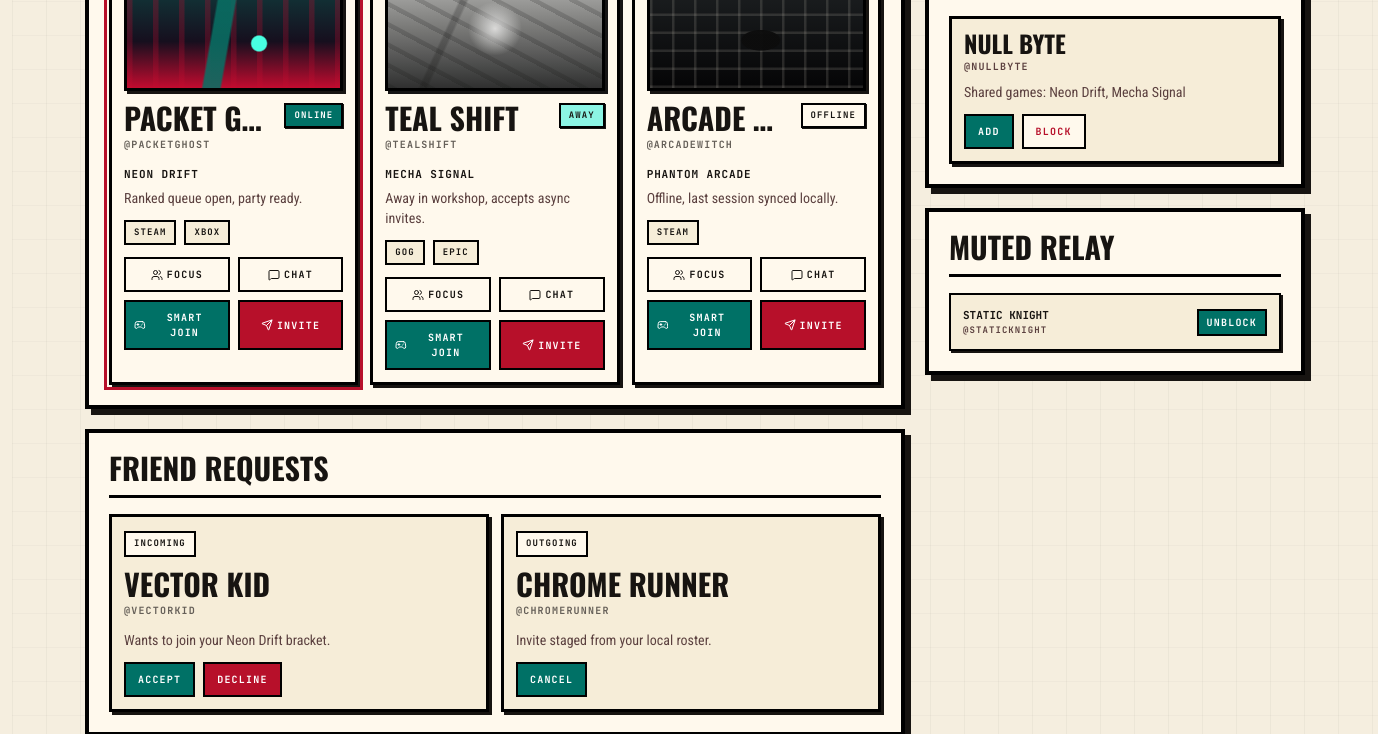
Test: FriendsPage › updates the local roster when a request is accepted
(page scrolled)
Click the button "Accept" at (160, 679), box [124, 662, 195, 697]
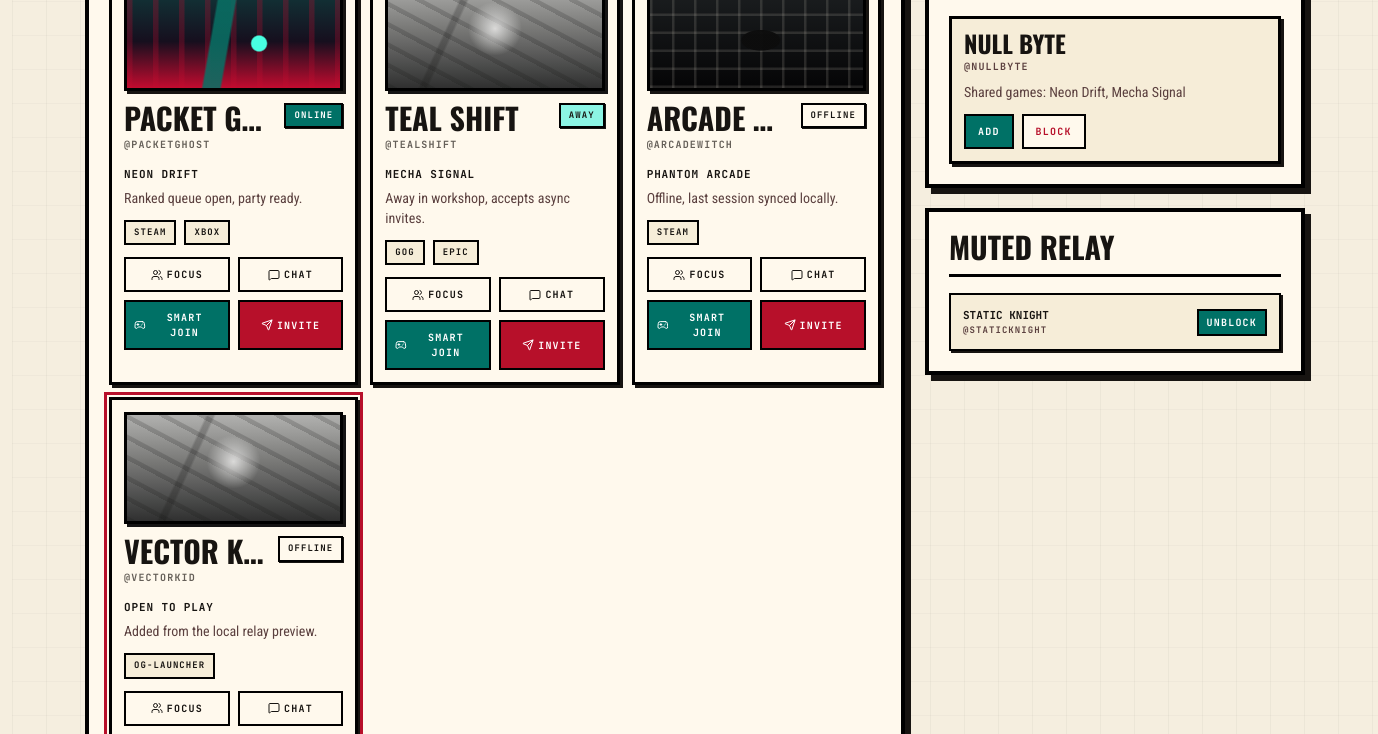
Expected: the text "Vector Kid" is shown, [124, 536, 266, 566]
Result: the text "Wants to join your Neon Drift bracket." is gone
